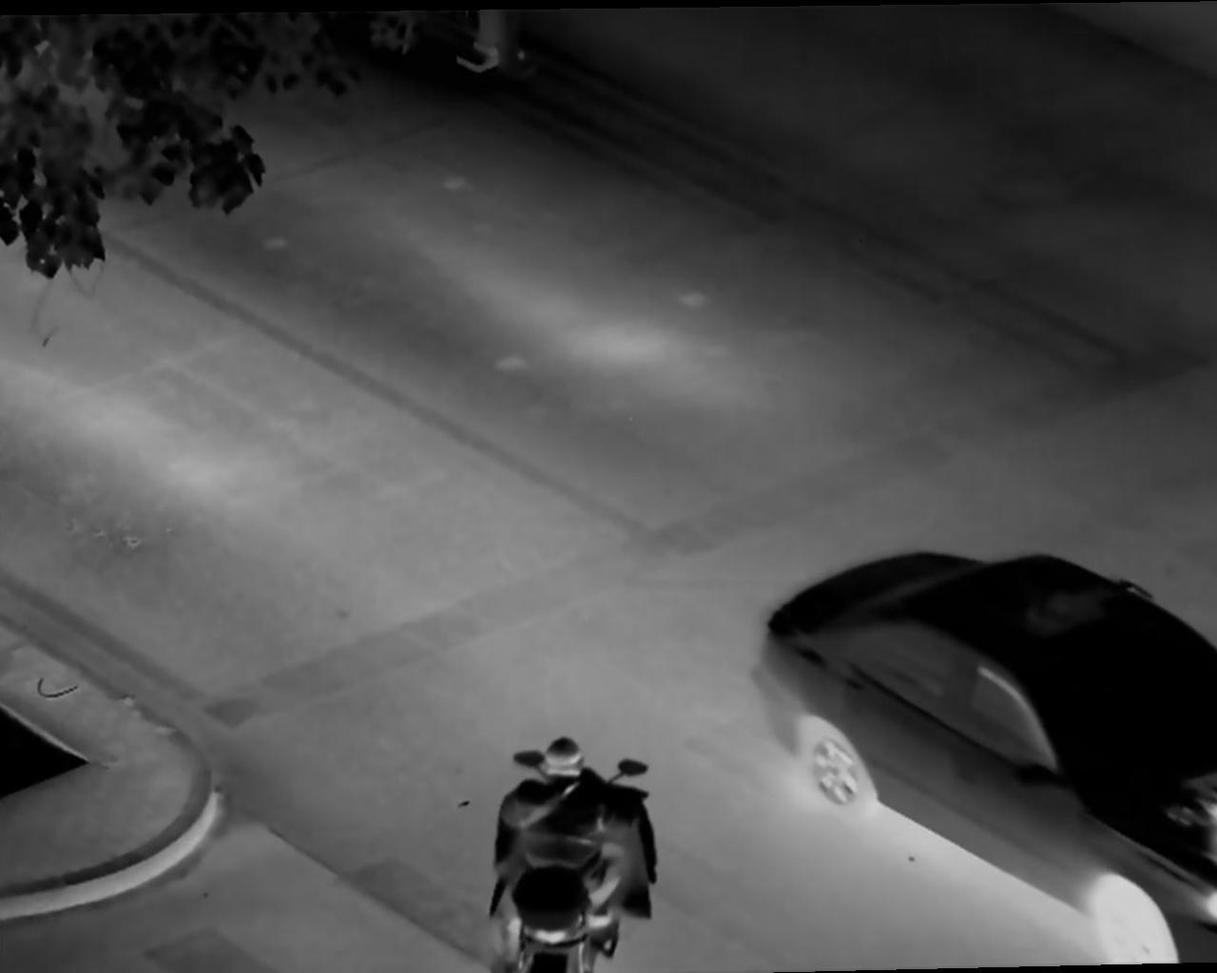person: (493, 735, 635, 920)
